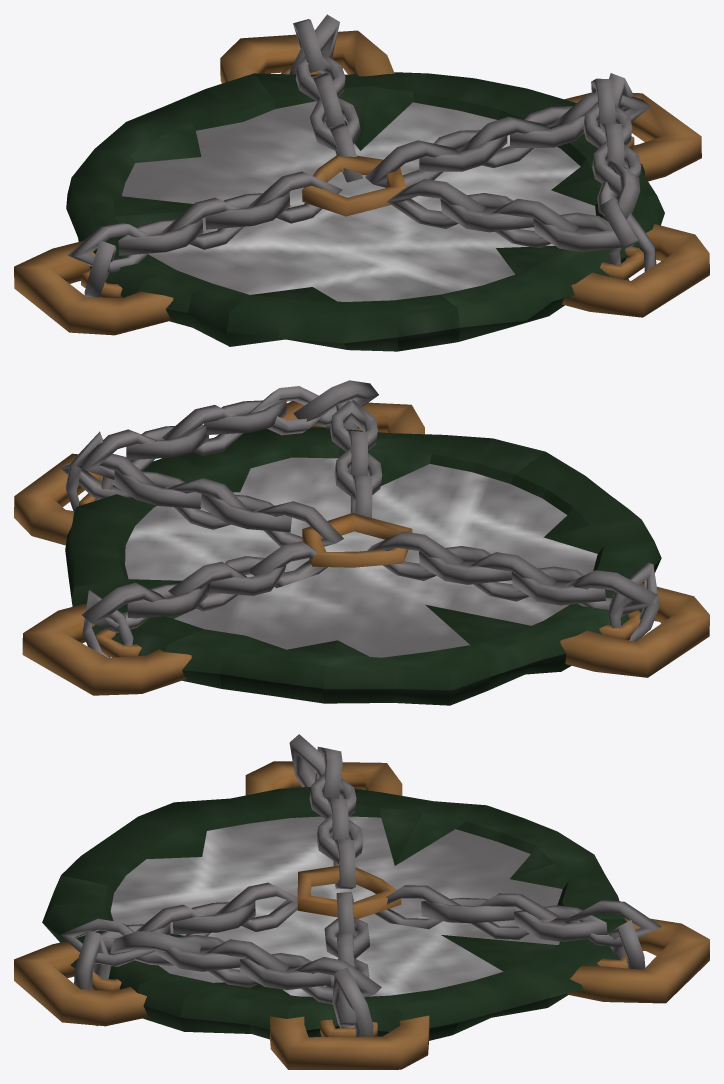
File: ShieldBlackmetal.fbx
3 views of the same model, one above another, from view 1: azimuth 30°, elevation 25°; view 2: azimuth 150°, elevation 25°; view 3: azimuth 270°, elevation 25° (orthographic). The views are drawn at different scales.
Parts seen in each view (by area): view 1: attach; view 2: attach; view 3: attach.
Boxes of the visible parts, x1=… form: attach: x1=14, y1=14, x2=709, y2=351; attach: x1=14, y1=380, x2=709, y2=705; attach: x1=14, y1=734, x2=709, y2=1069.
Bounding box in the file's own units: 1.04 × 0.1985 × 1.02.
1 material, 1 textured.
